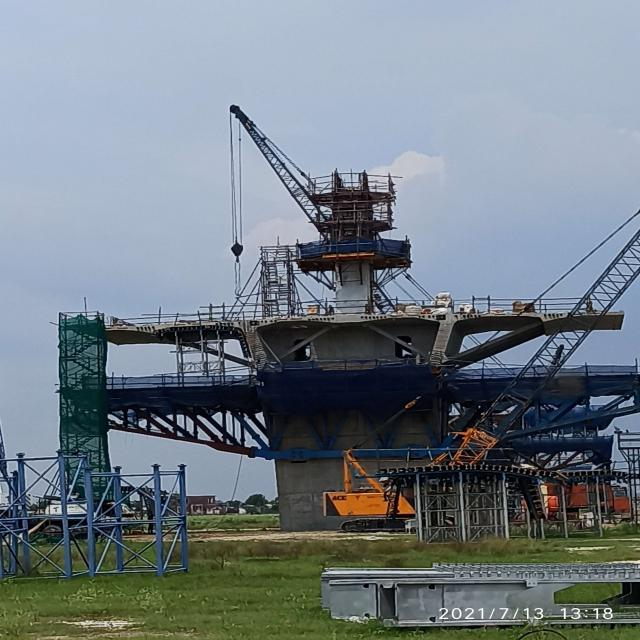Machinary: (56, 109, 617, 533), (330, 438, 452, 520)
